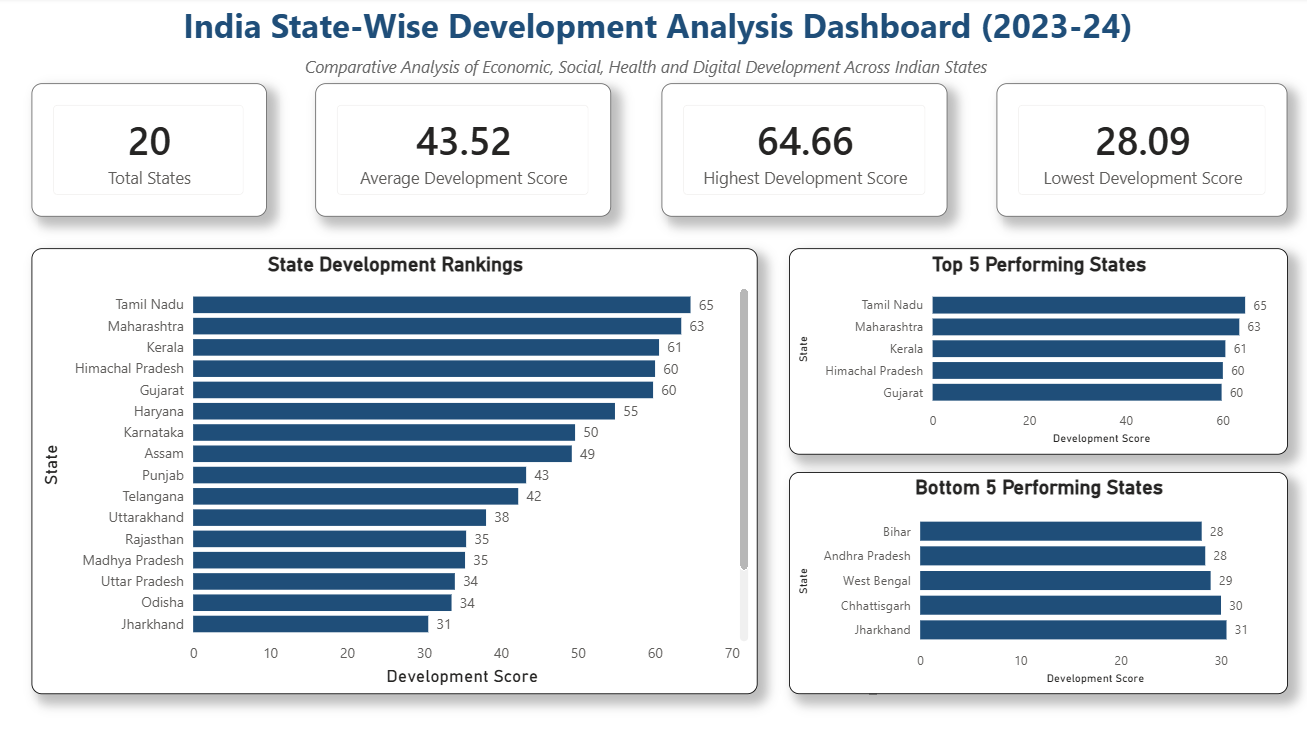

The page's visual inventory and layout, read from the dashboard file:
{"tool":"powerbi","page":{"name":"Executive Summary","canvas":[1280,720],"ordinal":0},"visuals":[{"type":"textbox","box":[0,0,1280,50.7],"z":0},{"type":"textbox","box":[285.9,50.7,676.8,32.6],"z":1000},{"type":"cardVisual","title":"States Analyzed","fields":{"Data":["Master_Data.Total States"]},"box":[31.4,83.2,226.8,129.1],"z":2000},{"type":"cardVisual","fields":{"Data":["Master_Data.Average Development Score"]},"box":[305.2,83.2,285.9,129.1],"z":3000},{"type":"cardVisual","fields":{"Data":["Master_Data.Highest Development Score"]},"box":[639.4,83.2,276.3,129.1],"z":4000},{"type":"cardVisual","fields":{"Data":["Master_Data.Lowest Development Score"]},"box":[962.7,83.2,281.1,129.1],"z":5000},{"type":"clusteredBarChart","title":"State Development Rankings","fields":{"Category":["Master_Data.State"],"Y":["Master_Data.Development Score (M)"]},"box":[31.4,242.5,700.9,430.7],"z":6000},{"type":"clusteredBarChart","title":"Top 5 Performing States","fields":{"Category":["Master_Data.State"],"Y":["Sum(Master_Data.Development Score)"]},"box":[762.5,242.5,481.4,199.1],"z":7000},{"type":"clusteredBarChart","title":"Bottom 5 Performing States","fields":{"Category":["Master_Data.State"],"Y":["Sum(Master_Data.Development Score)"]},"box":[762.5,458.4,481.4,214.7],"z":8000}]}

Visuals, with their boxes in screenshot pixels (x1, y1, x2, y2), scaled from the page's 1280x720 canvas onto the 1307x731 screenshot:
textbox: (left=0, top=0, right=1306, bottom=51)
textbox: (left=292, top=51, right=983, bottom=85)
"States Analyzed" cardVisual: (left=32, top=84, right=264, bottom=216)
cardVisual - Master_Data.Average Development Score: (left=312, top=84, right=604, bottom=216)
cardVisual - Master_Data.Highest Development Score: (left=653, top=84, right=935, bottom=216)
cardVisual - Master_Data.Lowest Development Score: (left=983, top=84, right=1270, bottom=216)
"State Development Rankings" clusteredBarChart: (left=32, top=246, right=748, bottom=683)
"Top 5 Performing States" clusteredBarChart: (left=779, top=246, right=1270, bottom=448)
"Bottom 5 Performing States" clusteredBarChart: (left=779, top=465, right=1270, bottom=683)
